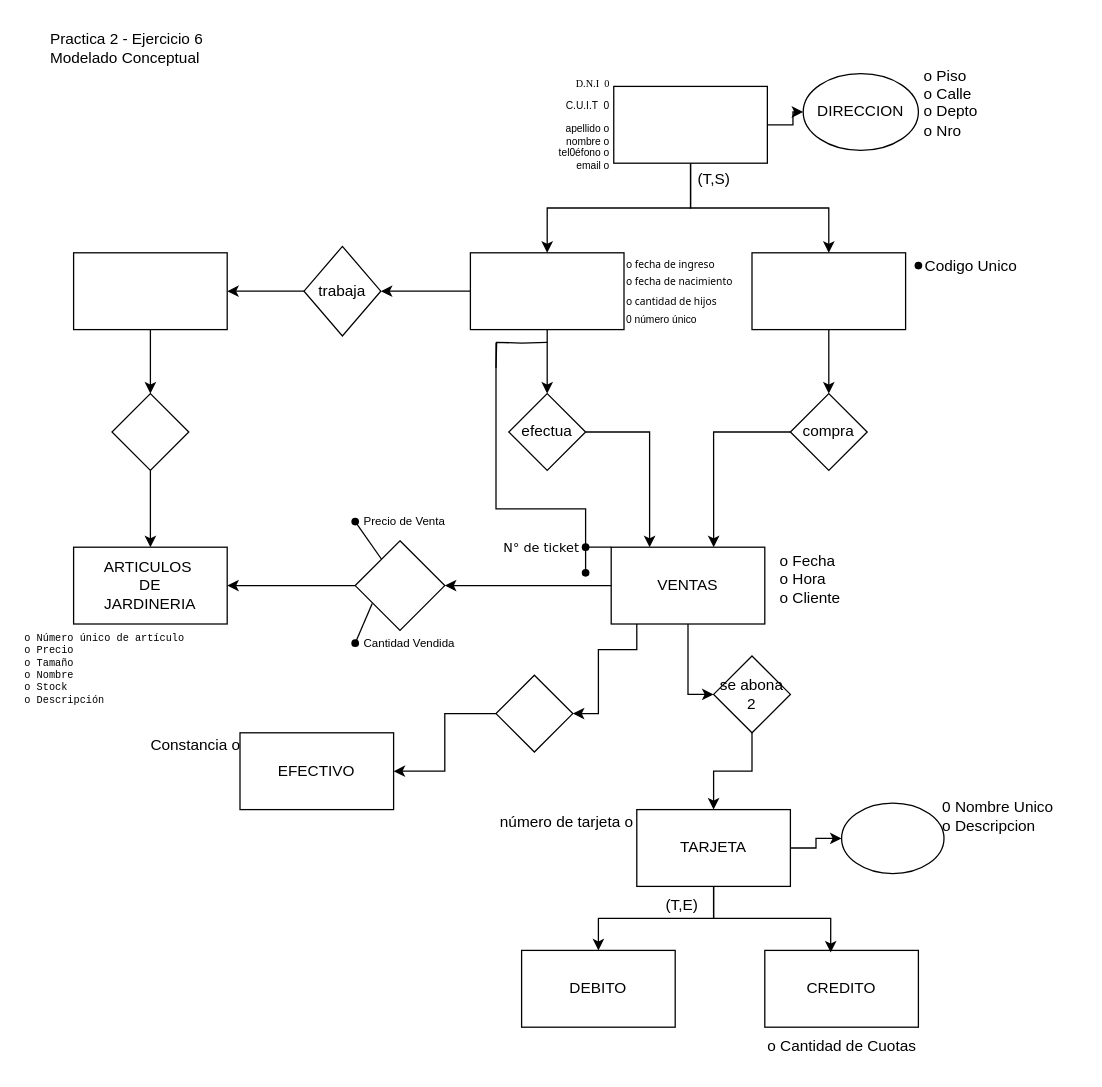
This 1102x1087 diagram has some shape labels left out. Here are the shapes that lost their labels. From the top down, the centre of each, then its label:
At point 689,124: "PERSONA".
At point 149,291: "VIVERO".
At point 546,291: "EMPLEADO".
At point 828,291: "CLIENTE".
At point 150,431: "ofrece".
At point 399,585: "registran".
At point 534,713: "se abona 1".
At point 892,838: "ENTIDAD EMISORA".
